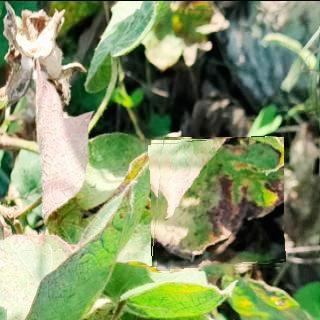blight: (150, 136, 284, 270)
